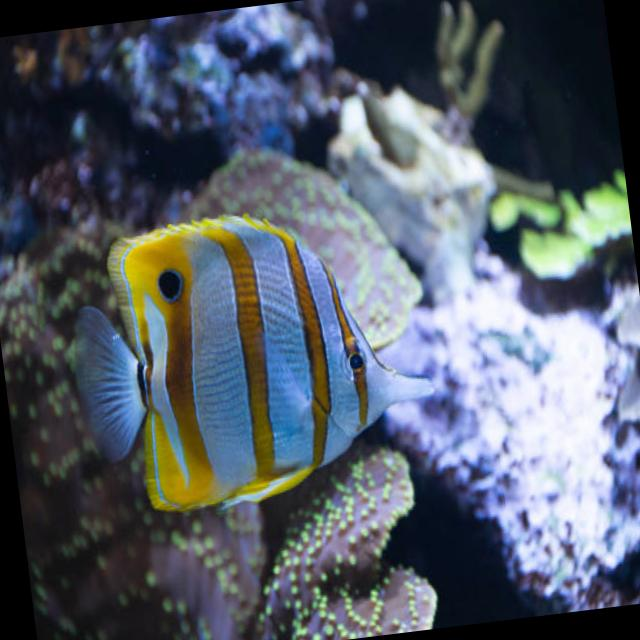ButterflyFish: (62, 190, 448, 520)
